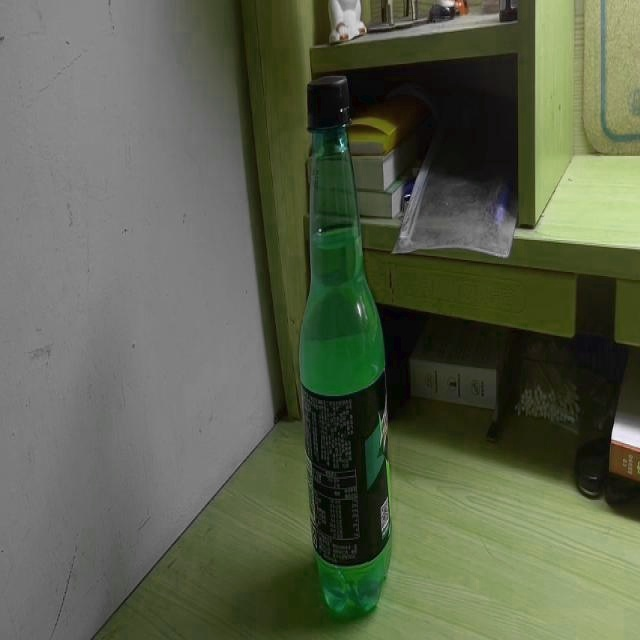Mountain-Dew: (298, 73, 394, 619)
